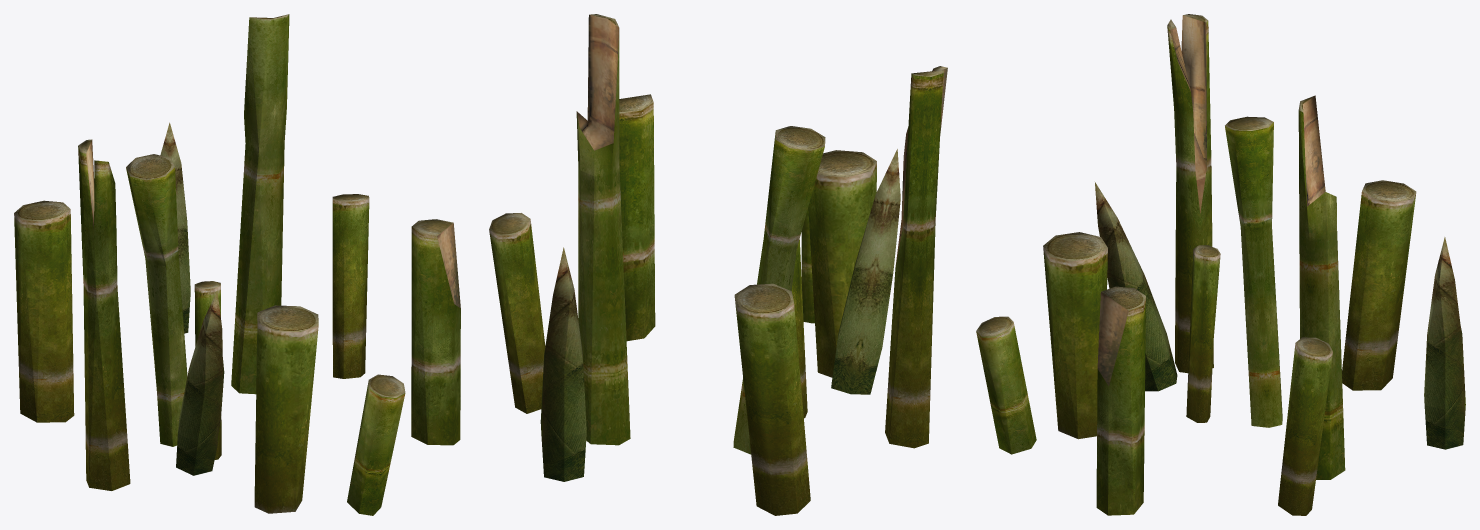
File: bg_anh_tree_bamboo02_sm_ksy.FBX
3 renders of one model, left to right at view 1: azimuth 30°, elevation 25°; view 2: azimuth 150°, elevation 25°; view 3: azimuth 270°, elevation 25°, orthographic. The views are drawn at different scales.
Visible parts, largest first — view 1: bg_anh_tree_bamboo02_sm_ksy; view 2: bg_anh_tree_bamboo02_sm_ksy; view 3: bg_anh_tree_bamboo02_sm_ksy.
Boxes of the visible parts, <box> form: bg_anh_tree_bamboo02_sm_ksy: <box>14,14,460,515</box>; bg_anh_tree_bamboo02_sm_ksy: <box>489,14,947,515</box>; bg_anh_tree_bamboo02_sm_ksy: <box>976,14,1465,515</box>.
Size of the model in its own units: 108 by 112 by 132.
